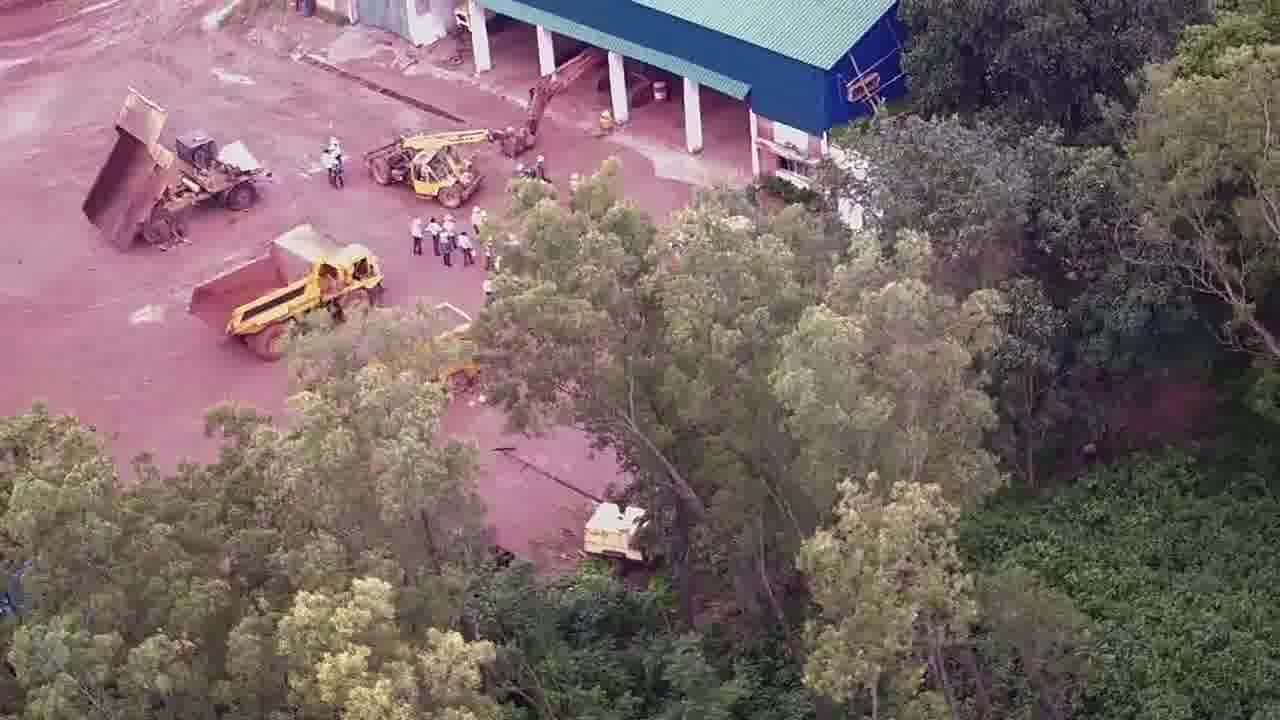HMV: (74, 84, 260, 249), (191, 221, 383, 357), (366, 118, 491, 206)
Person: (408, 214, 424, 256), (457, 228, 473, 265), (439, 224, 451, 265), (320, 147, 332, 187), (443, 211, 455, 251), (333, 152, 345, 190), (428, 215, 438, 260), (470, 204, 484, 232)
